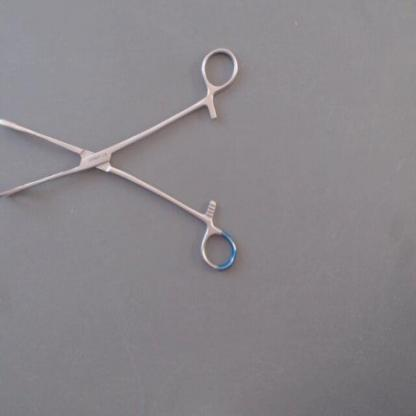Sponge Forceps: (0, 38, 245, 278)
